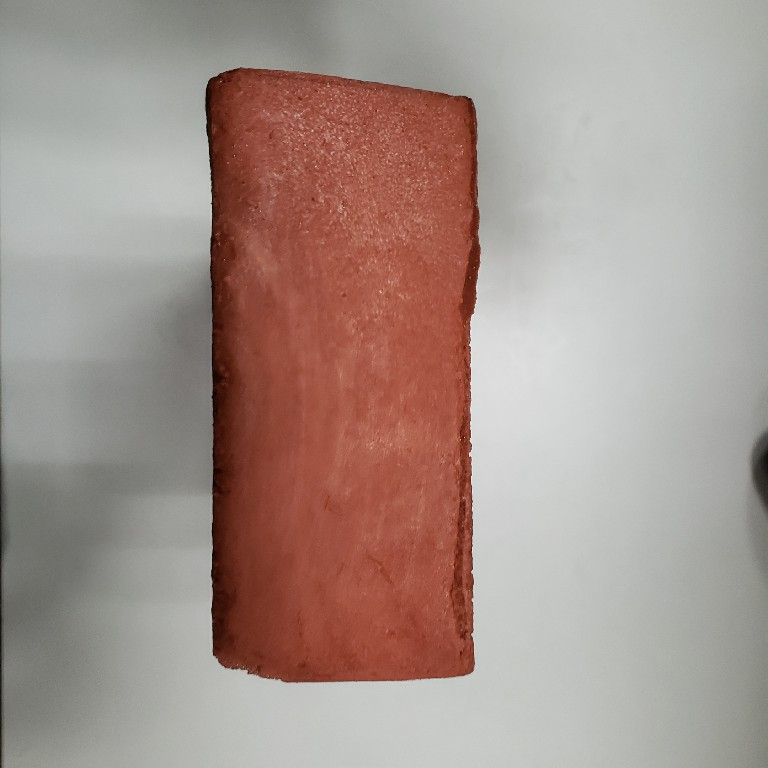brick: (191, 61, 498, 699)
